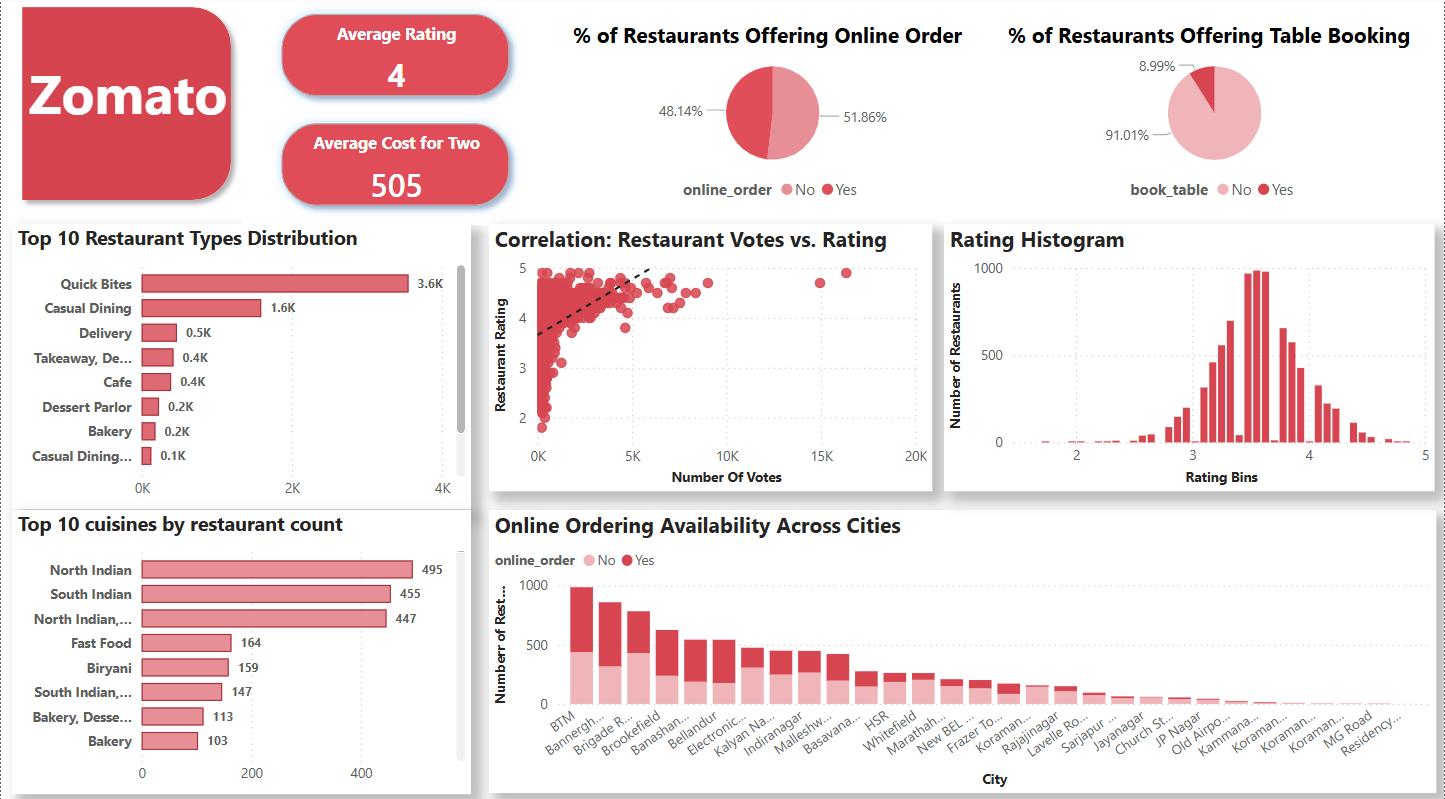

This screenshot's page, from the dashboard's own definition file:
{"tool":"powerbi","page":{"name":"Page 1","canvas":[1280,720],"ordinal":0},"visuals":[{"type":"shape","box":[10.1,0,203.6,189.5],"z":0},{"type":"textbox","box":[19.1,47.4,212.7,86.7],"z":1000},{"type":"barChart","title":"Top 10 Restaurant Types Distribution","fields":{"Category":["zomato.Restaurant_Type"],"Y":["CountNonNull(zomato.Restaurant_Type)"]},"box":[10.1,201.6,407.2,253],"z":2000},{"type":"barChart","title":"Top 10 cuisines by restaurant count","fields":{"Category":["zomato.cuisines"],"Y":["CountNonNull(zomato.cuisines)"]},"box":[10.1,454.6,407.2,252],"z":3000},{"type":"cardVisual","fields":{"Data":["zomato.AverageRating","zomato.Average Cost for Two"]},"box":[213.7,0,272.1,201.6],"z":4000},{"type":"pieChart","title":"% of Restaurants Offering Online Order","fields":{"Category":["zomato.online_order"],"Y":["zomato.Restaurant Count"]},"box":[501.9,20.2,364.9,169.3],"z":5000},{"type":"scatterChart","title":"Correlation: Restaurant Votes vs. Rating","fields":{"X":["zomato.votes"],"Y":["zomato.Rating_Out_Of_5"]},"box":[432.4,201.6,393.1,236.9],"z":6000},{"type":"pieChart","title":"% of Restaurants Offering Table Booking","fields":{"Category":["zomato.book_table"],"Y":["zomato.Restaurant Count"]},"box":[887.9,20.2,376.9,169.3],"z":7000},{"type":"columnChart","title":"Online Ordering Availability Across Cities","fields":{"Category":["zomato.City"],"Y":["zomato.Restaurant Count"],"Series":["zomato.online_order"]},"box":[432.4,454.6,839.6,251],"z":8000},{"type":"clusteredColumnChart","title":"Rating Histogram","fields":{"Category":["zomato.Rating_Out_Of_5 (bins)"],"Y":["zomato.Restaurant Count"]},"box":[836.5,201.6,435.4,236.9],"z":9000}]}

Visuals, with their boxes in screenshot pixels (x1, y1, x2, y2), scaled from the page's 1280x720 canvas onto the 1445x799 screenshot:
shape: x1=11 y1=0 x2=241 y2=210
textbox: x1=22 y1=53 x2=262 y2=149
"Top 10 Restaurant Types Distribution" barChart: x1=11 y1=224 x2=471 y2=504
"Top 10 cuisines by restaurant count" barChart: x1=11 y1=504 x2=471 y2=784
cardVisual - zomato.AverageRating x zomato.Average Cost for Two: x1=241 y1=0 x2=548 y2=224
"% of Restaurants Offering Online Order" pieChart: x1=567 y1=22 x2=979 y2=210
"Correlation: Restaurant Votes vs. Rating" scatterChart: x1=488 y1=224 x2=932 y2=487
"% of Restaurants Offering Table Booking" pieChart: x1=1002 y1=22 x2=1428 y2=210
"Online Ordering Availability Across Cities" columnChart: x1=488 y1=504 x2=1436 y2=783
"Rating Histogram" clusteredColumnChart: x1=944 y1=224 x2=1436 y2=487
